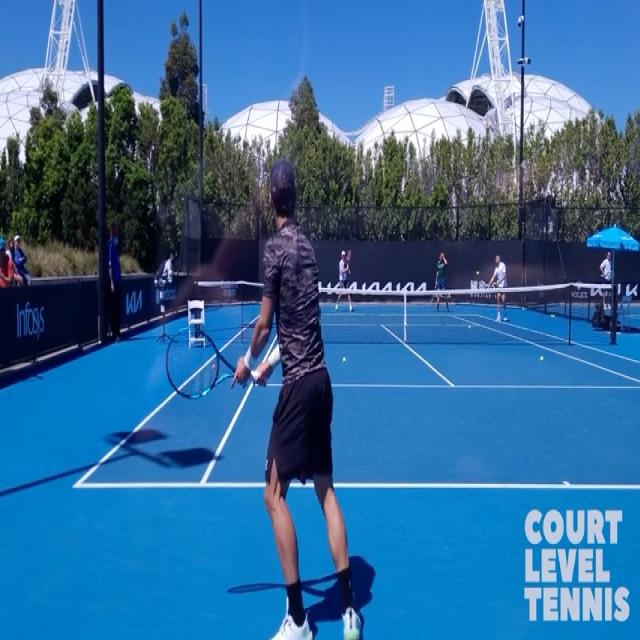backhand-ready: (167, 166, 366, 640)
